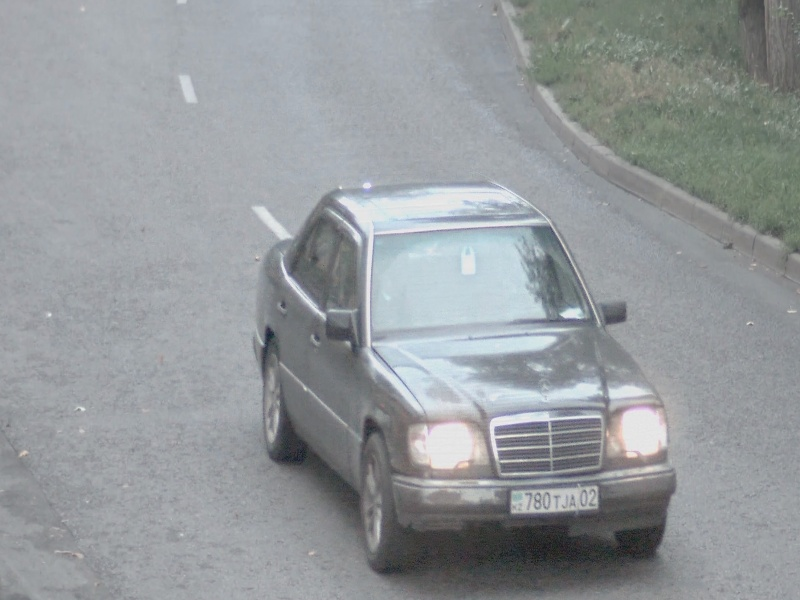plate: (510, 483, 600, 515)
